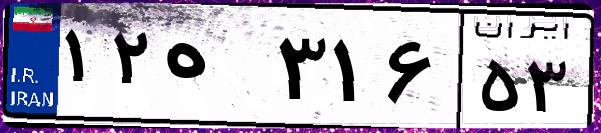1: (330, 28, 385, 110), (57, 26, 110, 100)
2: (110, 28, 158, 98)
3: (270, 28, 330, 110), (525, 38, 570, 115)
5: (475, 38, 525, 113)
6: (385, 28, 445, 110)
ه: (158, 20, 270, 120)
